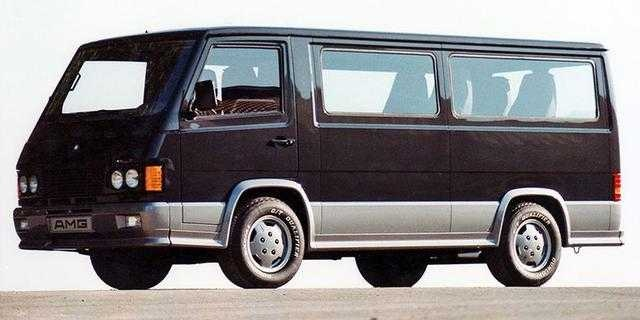van: (13, 25, 624, 289)
